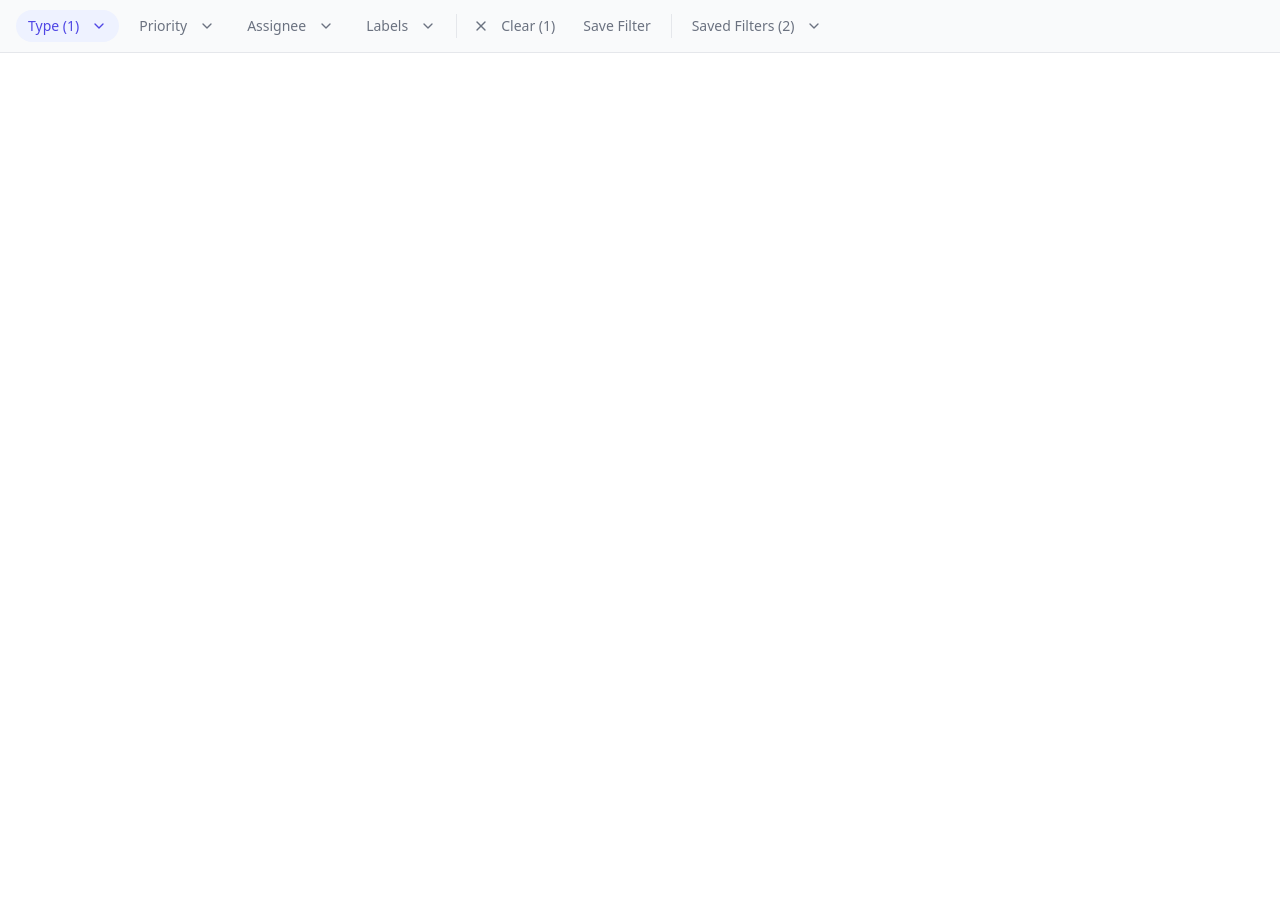
Test case: FilterBar › Save Filter Dialog › should open save dialog when clicking Save Filter button
Click the button "Save Filter" at (617, 26), box [571, 10, 663, 42]
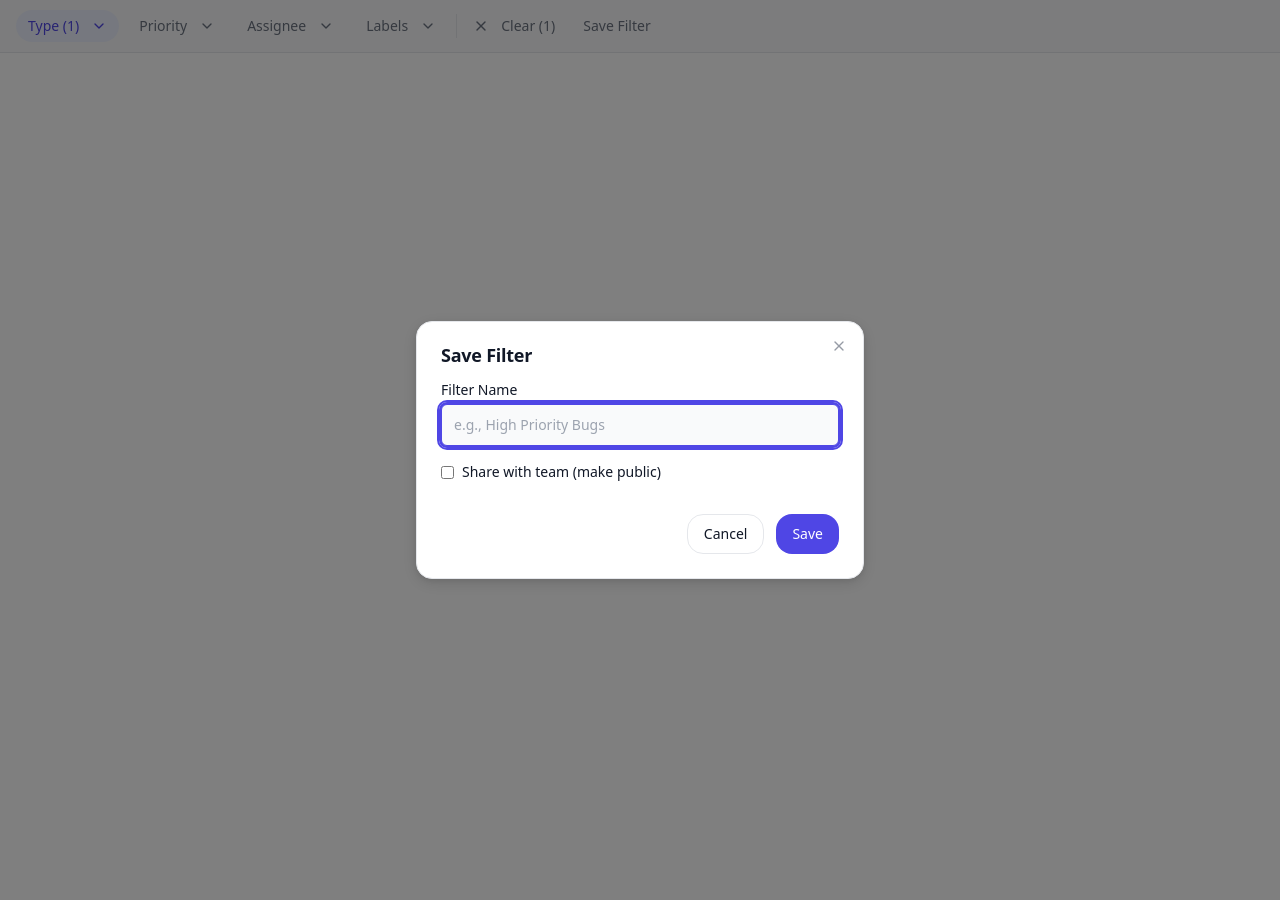
Now the dialog is shown, box [416, 321, 864, 579]
Now the field labelled "Filter Name" is shown, box [441, 404, 839, 446]
